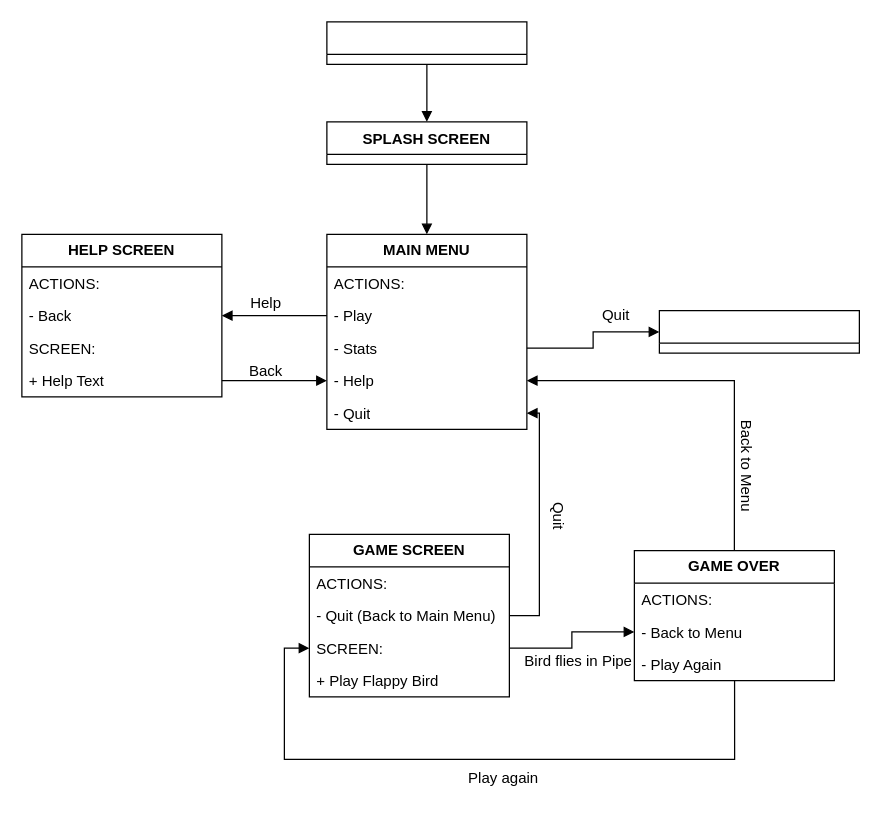
The diagram is 881 pixels wide and 819 high, and some of its shapes have lost their labels. The centre of each missing label's shape, as x and y in pixels:
"EXIT GAME" belongs at [758,331].
"START GAME" belongs at [426,42].
